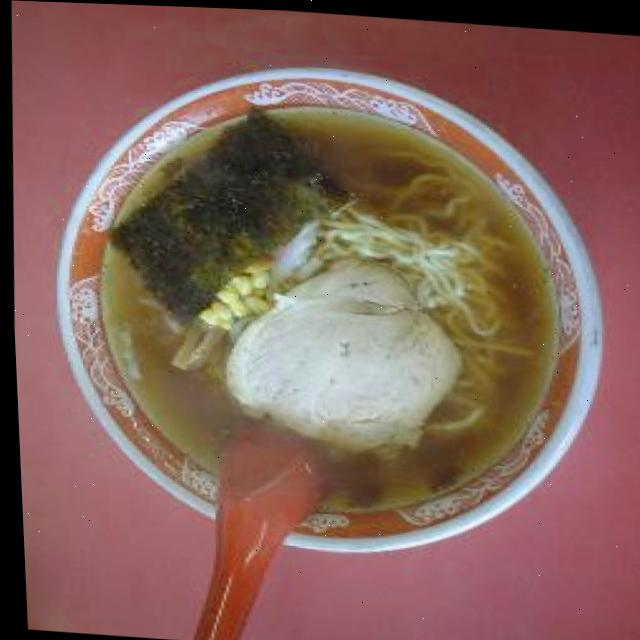面条主食: (21, 38, 621, 579)
